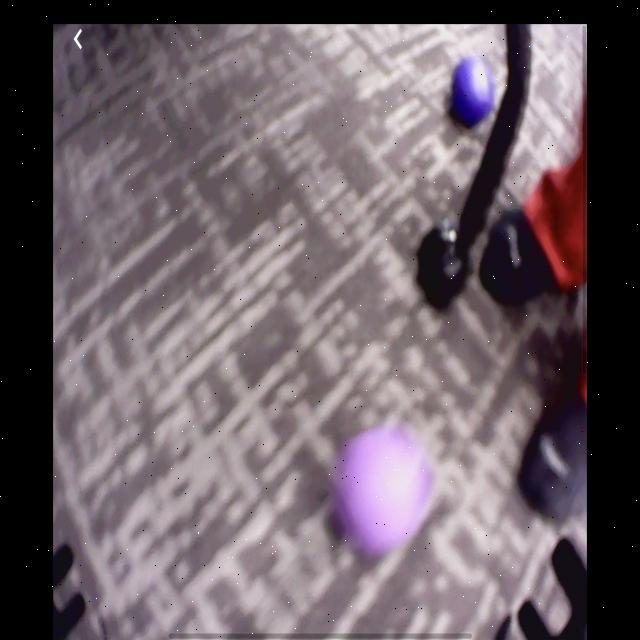ball: (335, 430, 422, 565), (453, 55, 494, 131)
